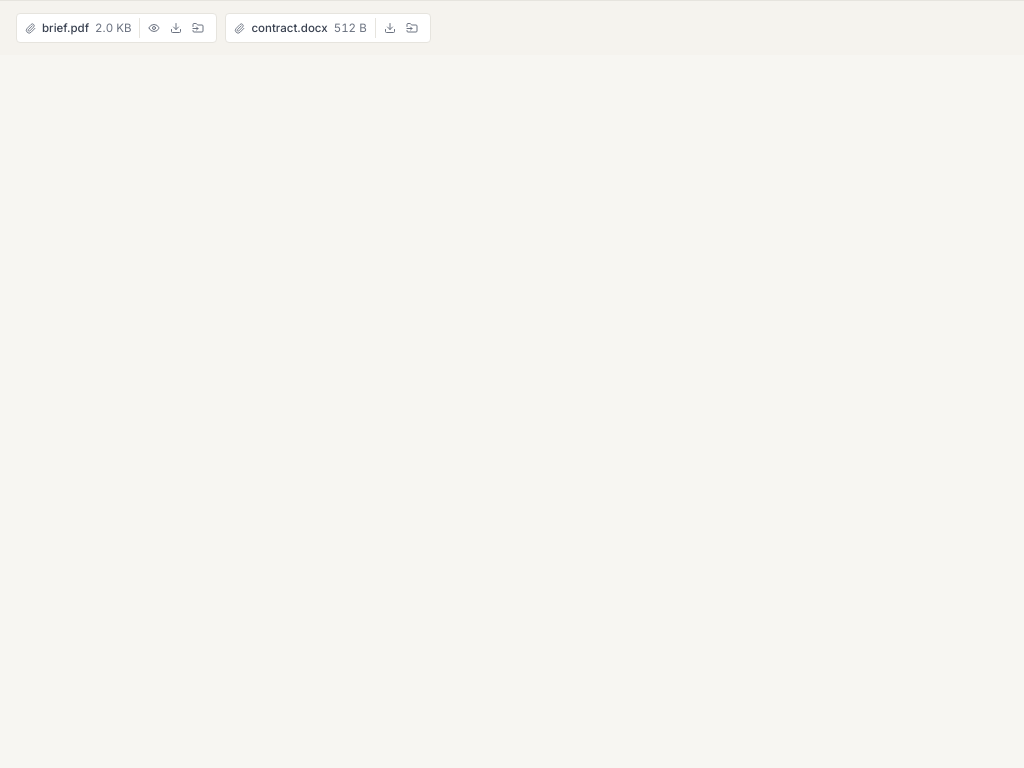
Scenario: filing dialog - matter visibility › shows which matter will be filed into and exposes picks via aria-pressed
The image size is (1024, 768).
Click the button named "File brief.pdf to matter". click: (198, 28)
box: 188,18 -> 208,38
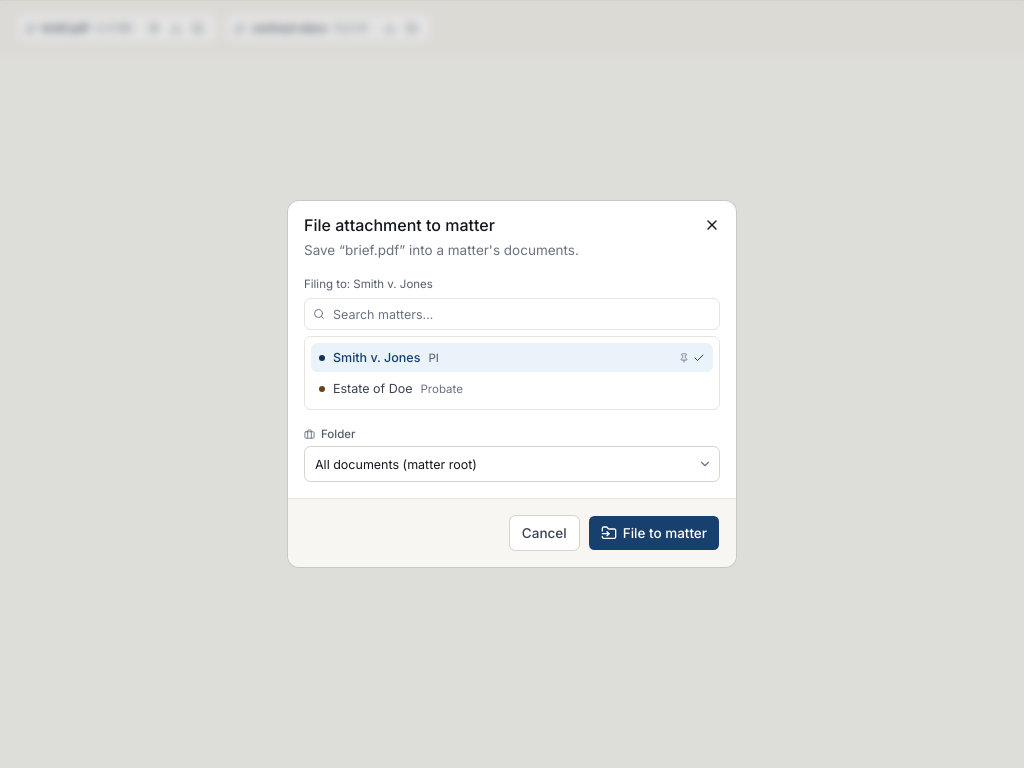
Result: the button "File to matter" is enabled at 588,515 -> 720,551
Result: the text "Filing to: Smith v. Jones" is shown at 304,277 -> 433,291
